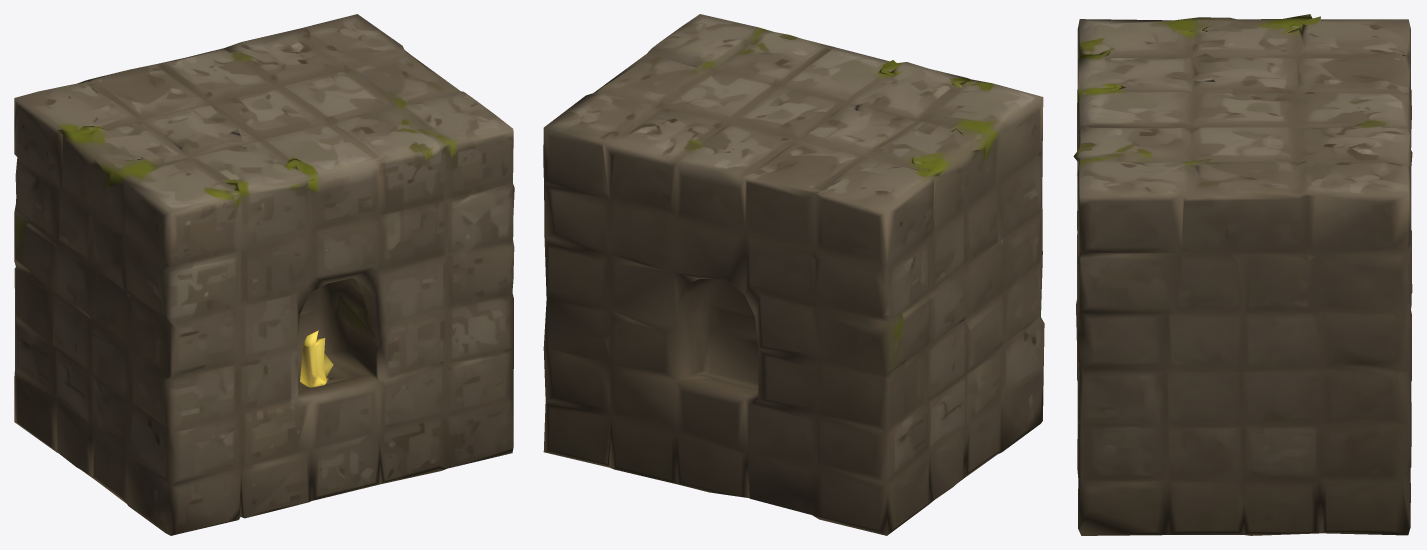
File: Wall_C0_B.glb
3 views of the same model, side by side, from view 1: azimuth 30°, elevation 25°; view 2: azimuth 150°, elevation 25°; view 3: azimuth 270°, elevation 25° (orthographic). The views are drawn at different scales.
Parts seen in each view (by area): view 1: tripo_node_4601f610-d067-4677-a43f-e073246d12da; view 2: tripo_node_4601f610-d067-4677-a43f-e073246d12da; view 3: tripo_node_4601f610-d067-4677-a43f-e073246d12da.
Boxes of the visible parts, x1,y1,x2,y2 form: tripo_node_4601f610-d067-4677-a43f-e073246d12da: (14, 14, 514, 535); tripo_node_4601f610-d067-4677-a43f-e073246d12da: (543, 14, 1044, 535); tripo_node_4601f610-d067-4677-a43f-e073246d12da: (1073, 14, 1412, 535).
Size of the model in its own units: 1 by 0.8983 by 0.7953.
Materials: 1 (1 with a texture image).
